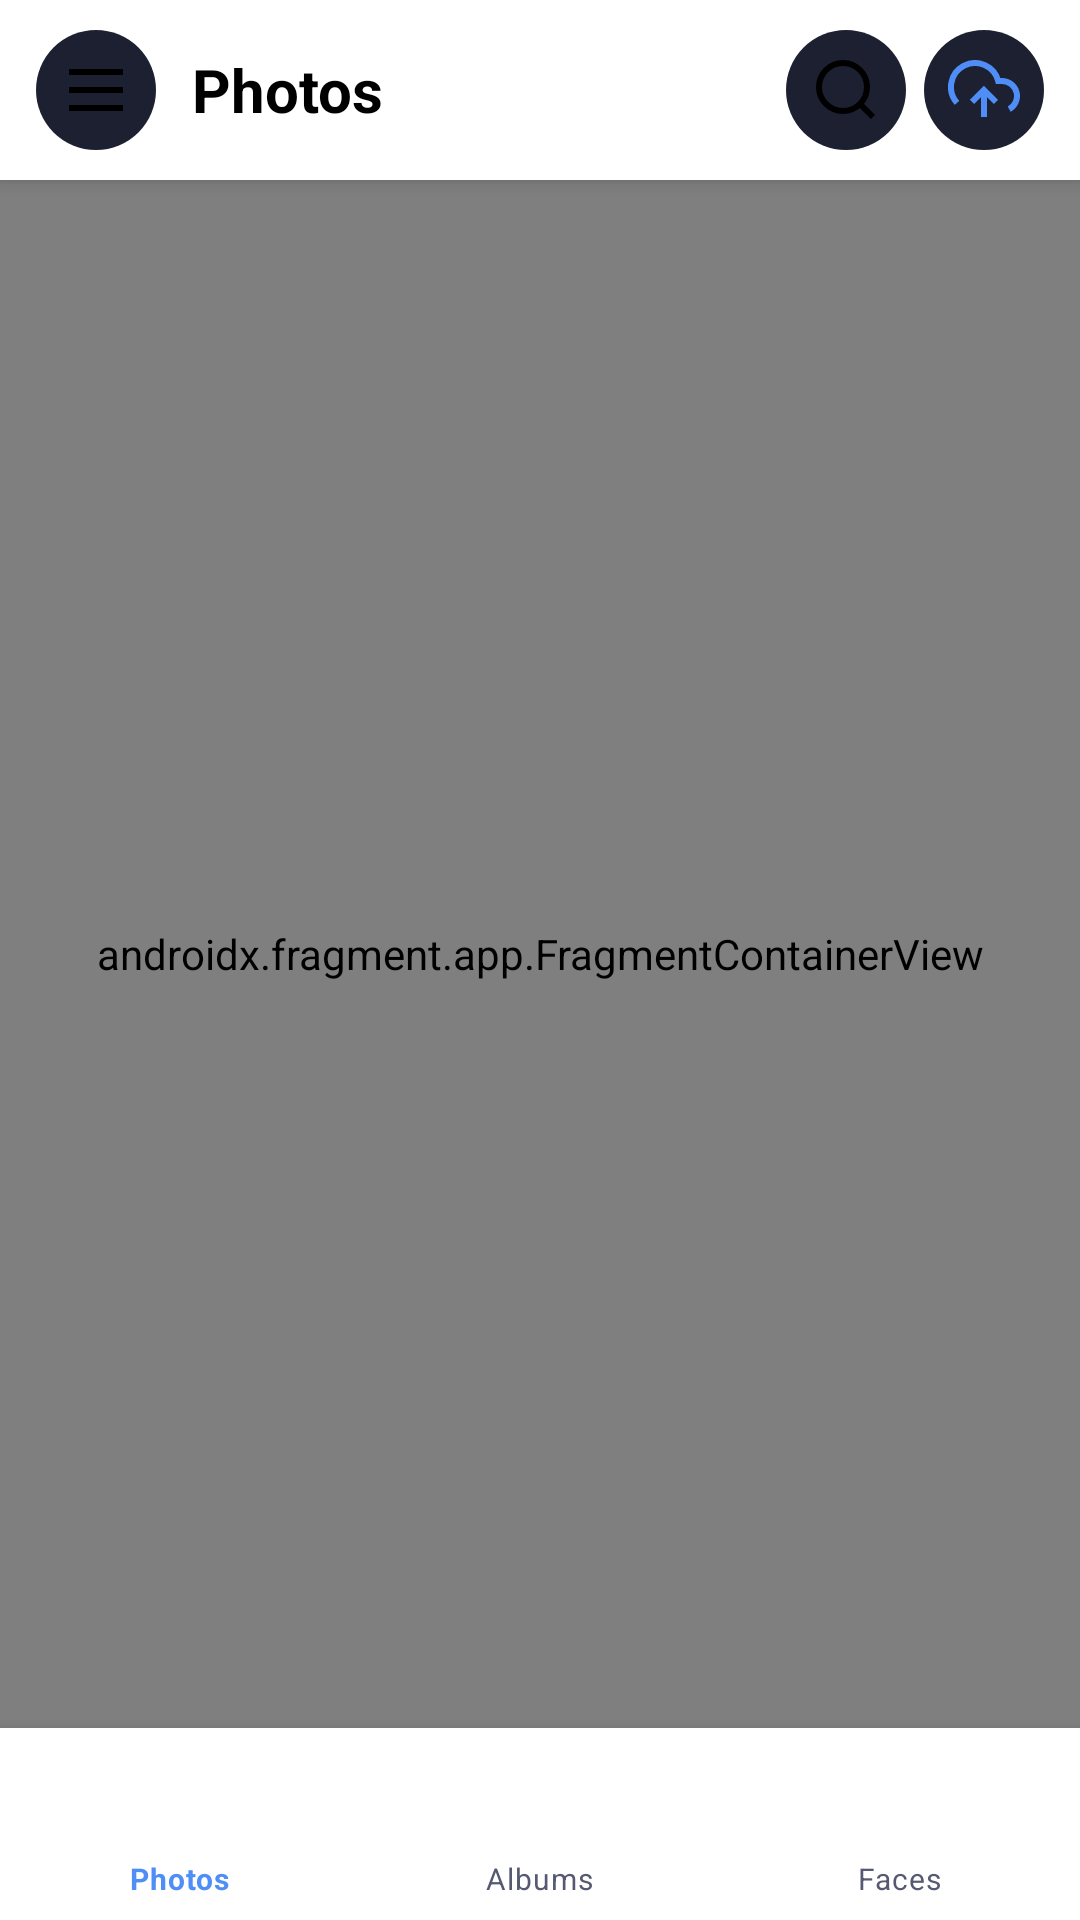

Where to tap for icons on this 1080px x 1920px app screen, as (x,y):
Menu: (96,90)
Search: (846,90)
Upload Queue: (984,90)
